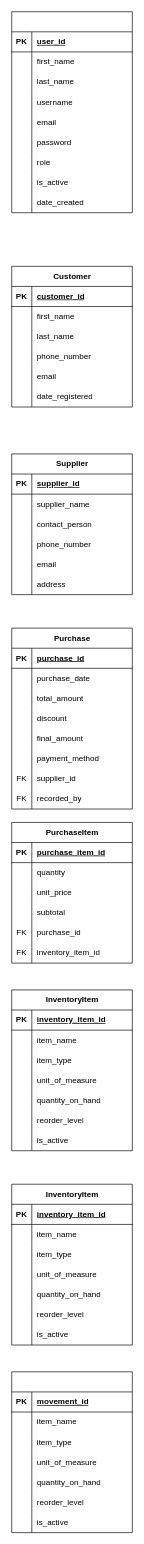
The diagram is 144 pixels wide and 1544 high, and some of its shapes have lost their labels. Each missing label, with the box of its shape:
StockManagement: (11, 1371, 132, 1533)
UserAccount: (11, 11, 132, 213)
